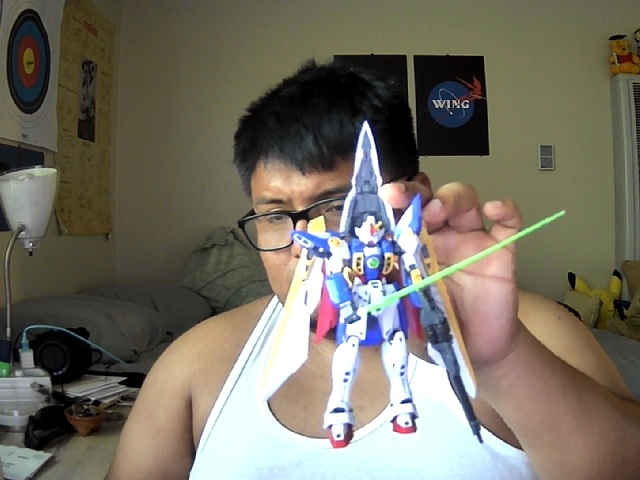Wing-01: (255, 121, 478, 446)
